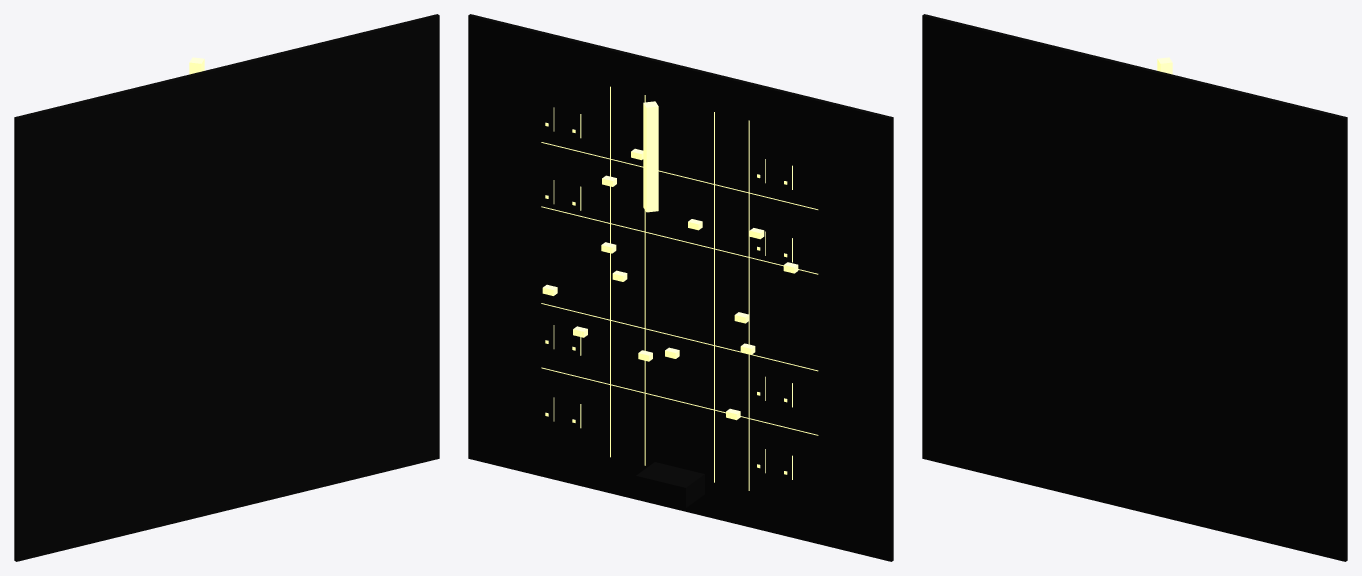
The model's file is neon_mall_kit.glb.
3 views of the same model, side by side, from view 1: azimuth 30°, elevation 25°; view 2: azimuth 150°, elevation 25°; view 3: azimuth 330°, elevation 25° (orthographic).
Parts seen in each view (by area): view 1: Mall_Ground; view 2: Mall_Ground, Lincoln_Memorial, Washington_Monument, Path_Line; view 3: Mall_Ground.
Part boxes in pixels (x1,y1,x2,y2): Mall_Ground: (14, 14, 439, 561); Mall_Ground: (468, 14, 893, 561); Lincoln_Memorial: (636, 462, 704, 507); Washington_Monument: (643, 101, 658, 212); Path_Line: (748, 120, 749, 490); Mall_Ground: (922, 14, 1347, 561).
Size of the model in its own units: 110 by 110 by 16.
